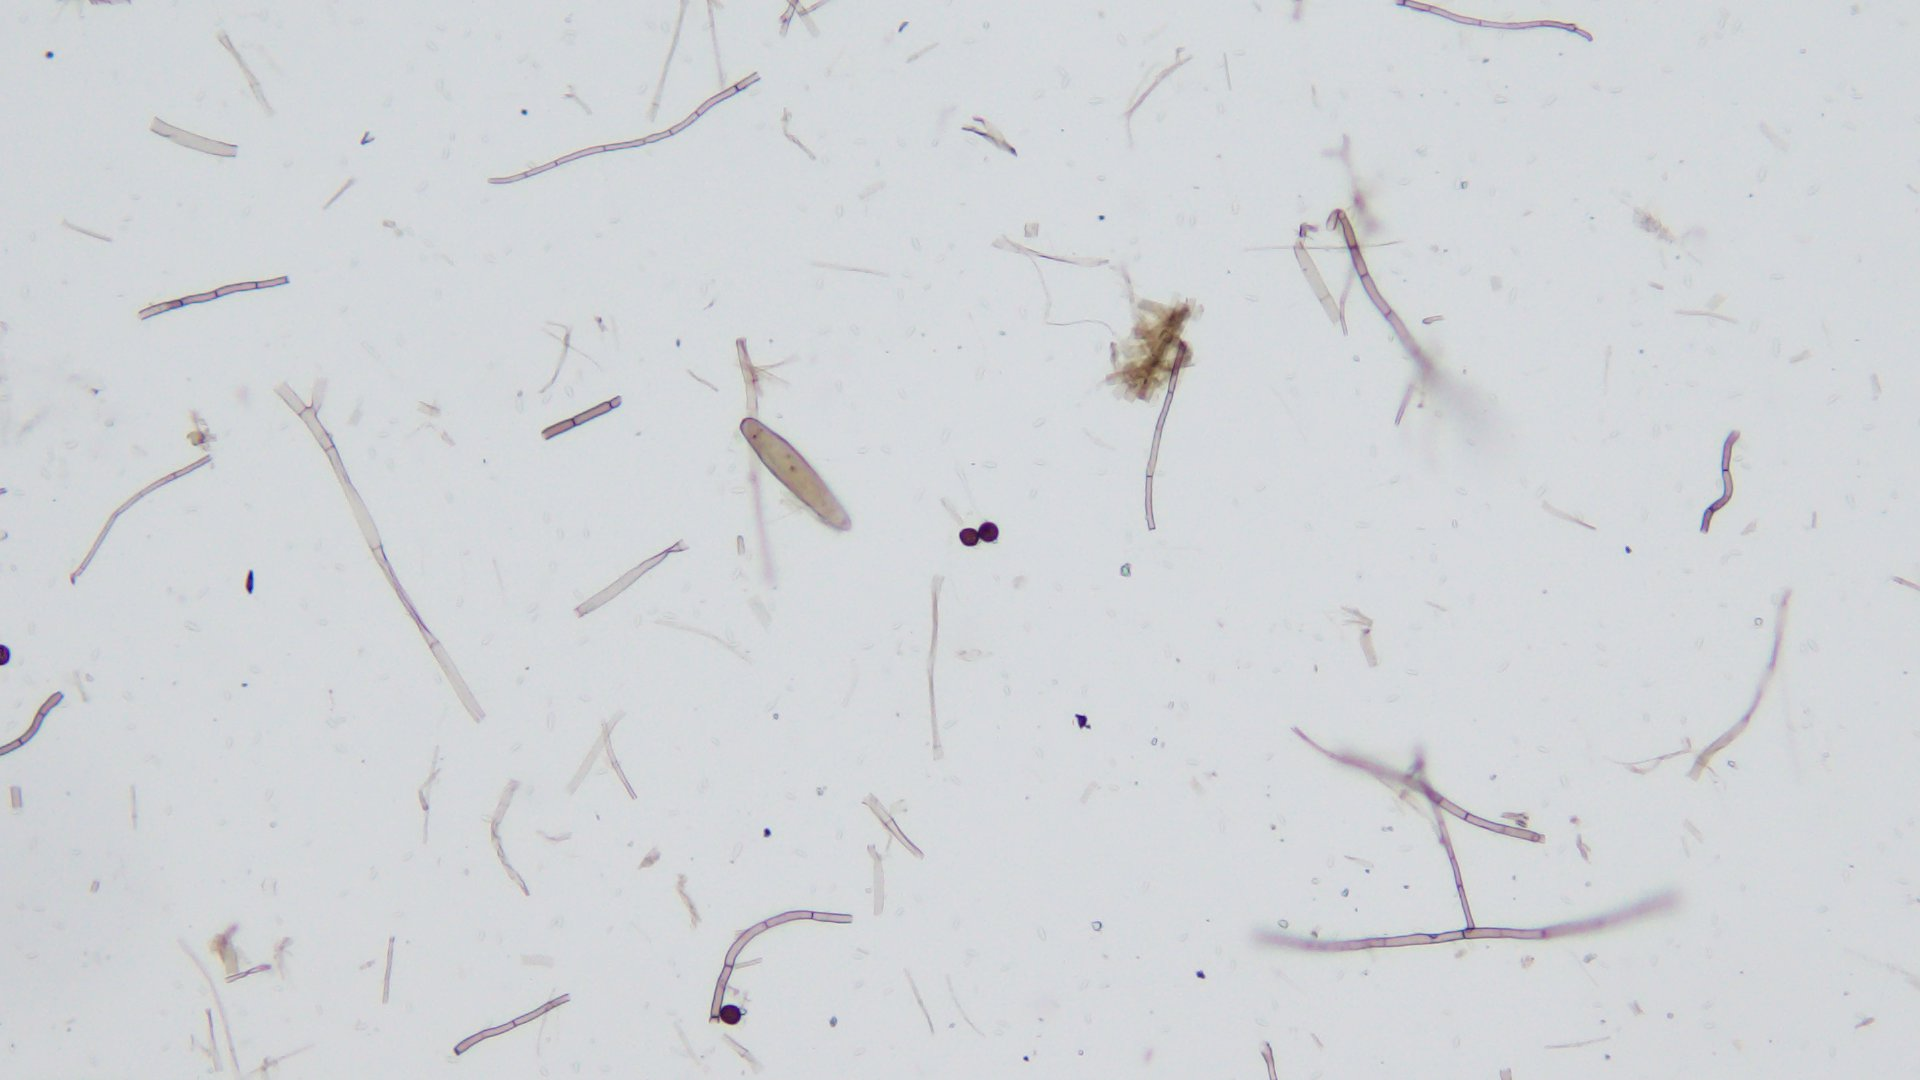dbb_spore: (738, 415, 851, 531)
shs_spore: (976, 521, 1002, 545), (719, 1004, 744, 1026), (957, 529, 978, 547)
